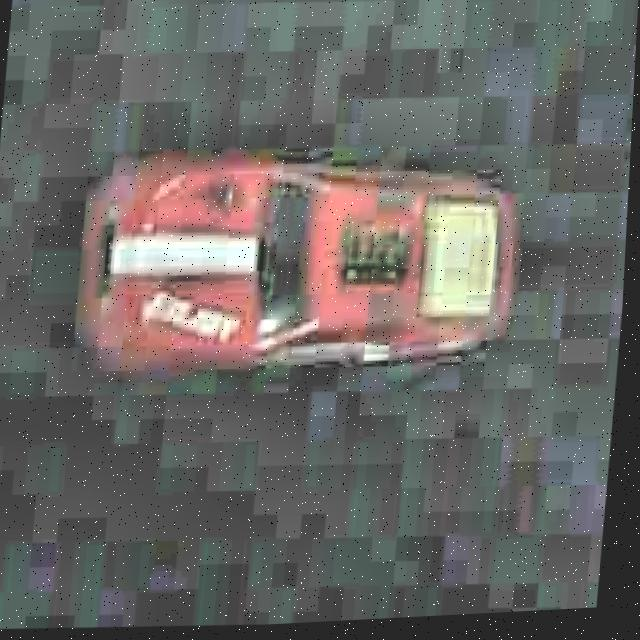car: (68, 124, 537, 394)
